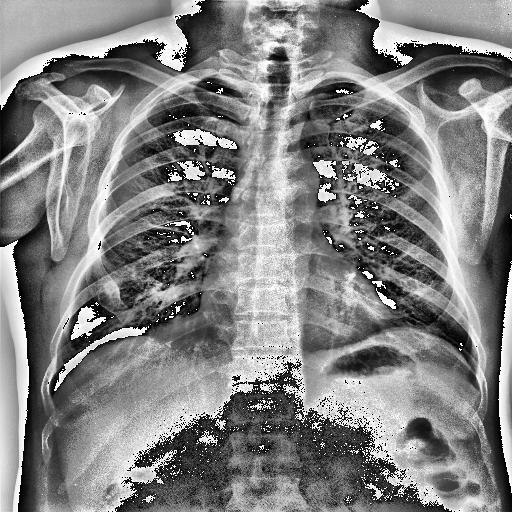11- Pleural thickening: (142, 83, 192, 109)
13- Pulmonary fibrosis: (142, 218, 192, 238), (141, 218, 189, 237), (144, 220, 187, 234)
9- Other lesion: (86, 272, 124, 312), (88, 272, 122, 312), (90, 282, 126, 312)
